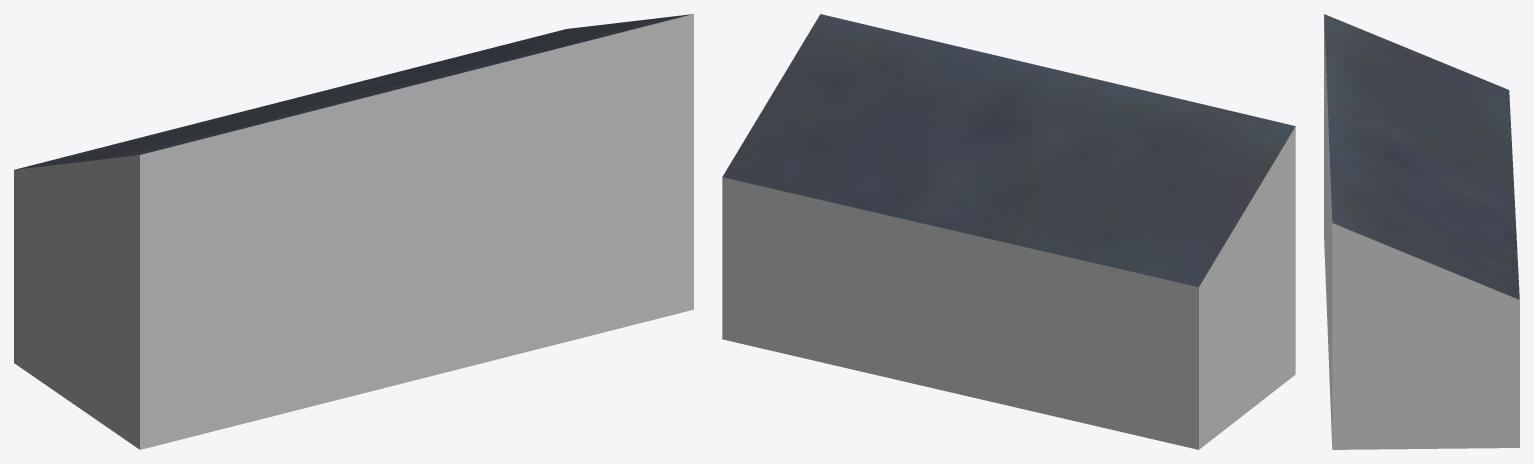
The model's file is DEBW_0010007Tx7U.gltf.
3 renders of one model, left to right at view 1: azimuth 30°, elevation 25°; view 2: azimuth 150°, elevation 25°; view 3: azimuth 270°, elevation 25°, orthographic. The views are drawn at different scales.
Visible parts, largest first — view 1: Z_UP; view 2: Z_UP; view 3: Z_UP.
Part boxes in pixels (x1,y1,x2,y2): Z_UP: [14, 14, 693, 449]; Z_UP: [722, 14, 1295, 449]; Z_UP: [1324, 14, 1519, 449].
Bounding box in the file's own units: 6.14 × 3.07 × 2.4.
Materials: 2 (1 with a texture image).
